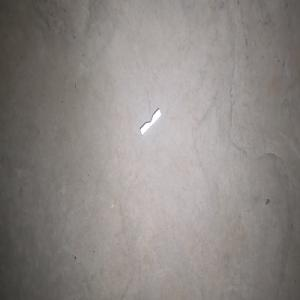ClampPart: (139, 107, 161, 136)
